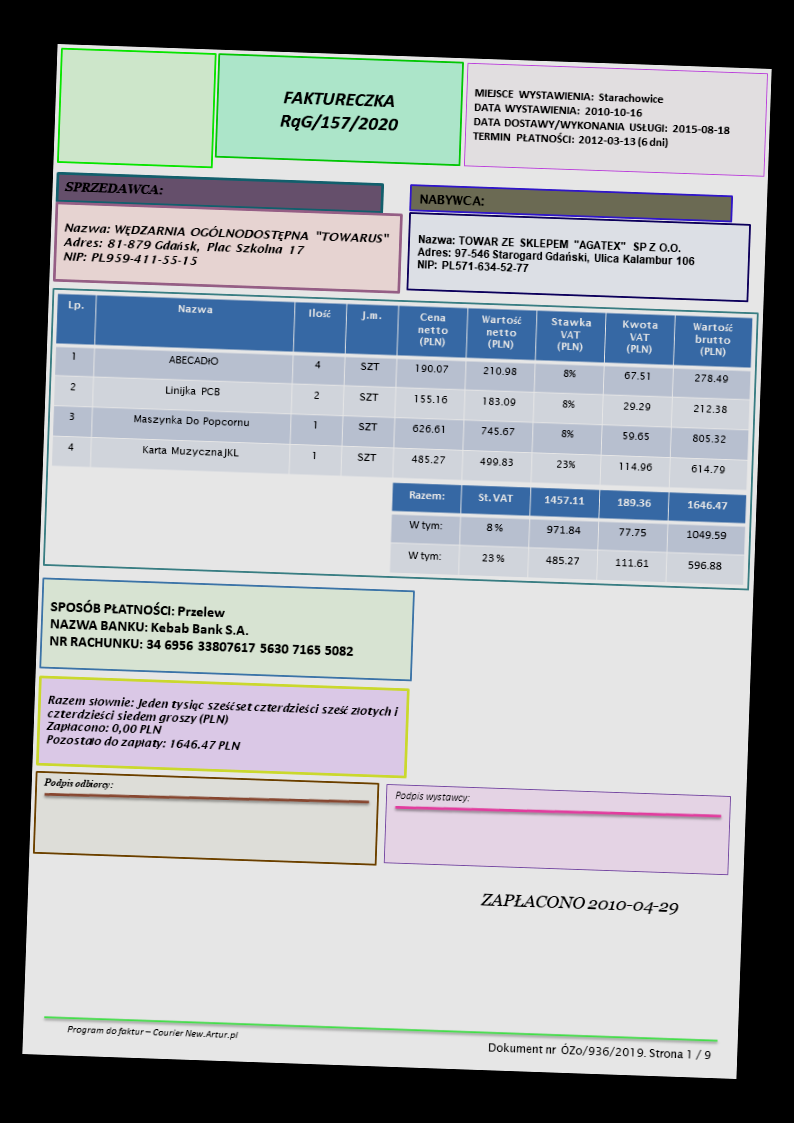Table: (50, 292, 753, 490), (388, 482, 748, 585)
TextBox: (43, 692, 401, 759), (45, 597, 358, 660), (60, 220, 391, 274), (470, 86, 733, 151), (414, 232, 696, 280), (277, 88, 401, 138), (478, 890, 681, 919), (486, 1041, 712, 1063), (63, 1022, 240, 1043), (61, 179, 164, 197), (417, 191, 486, 210), (393, 789, 471, 805), (41, 775, 116, 791)
